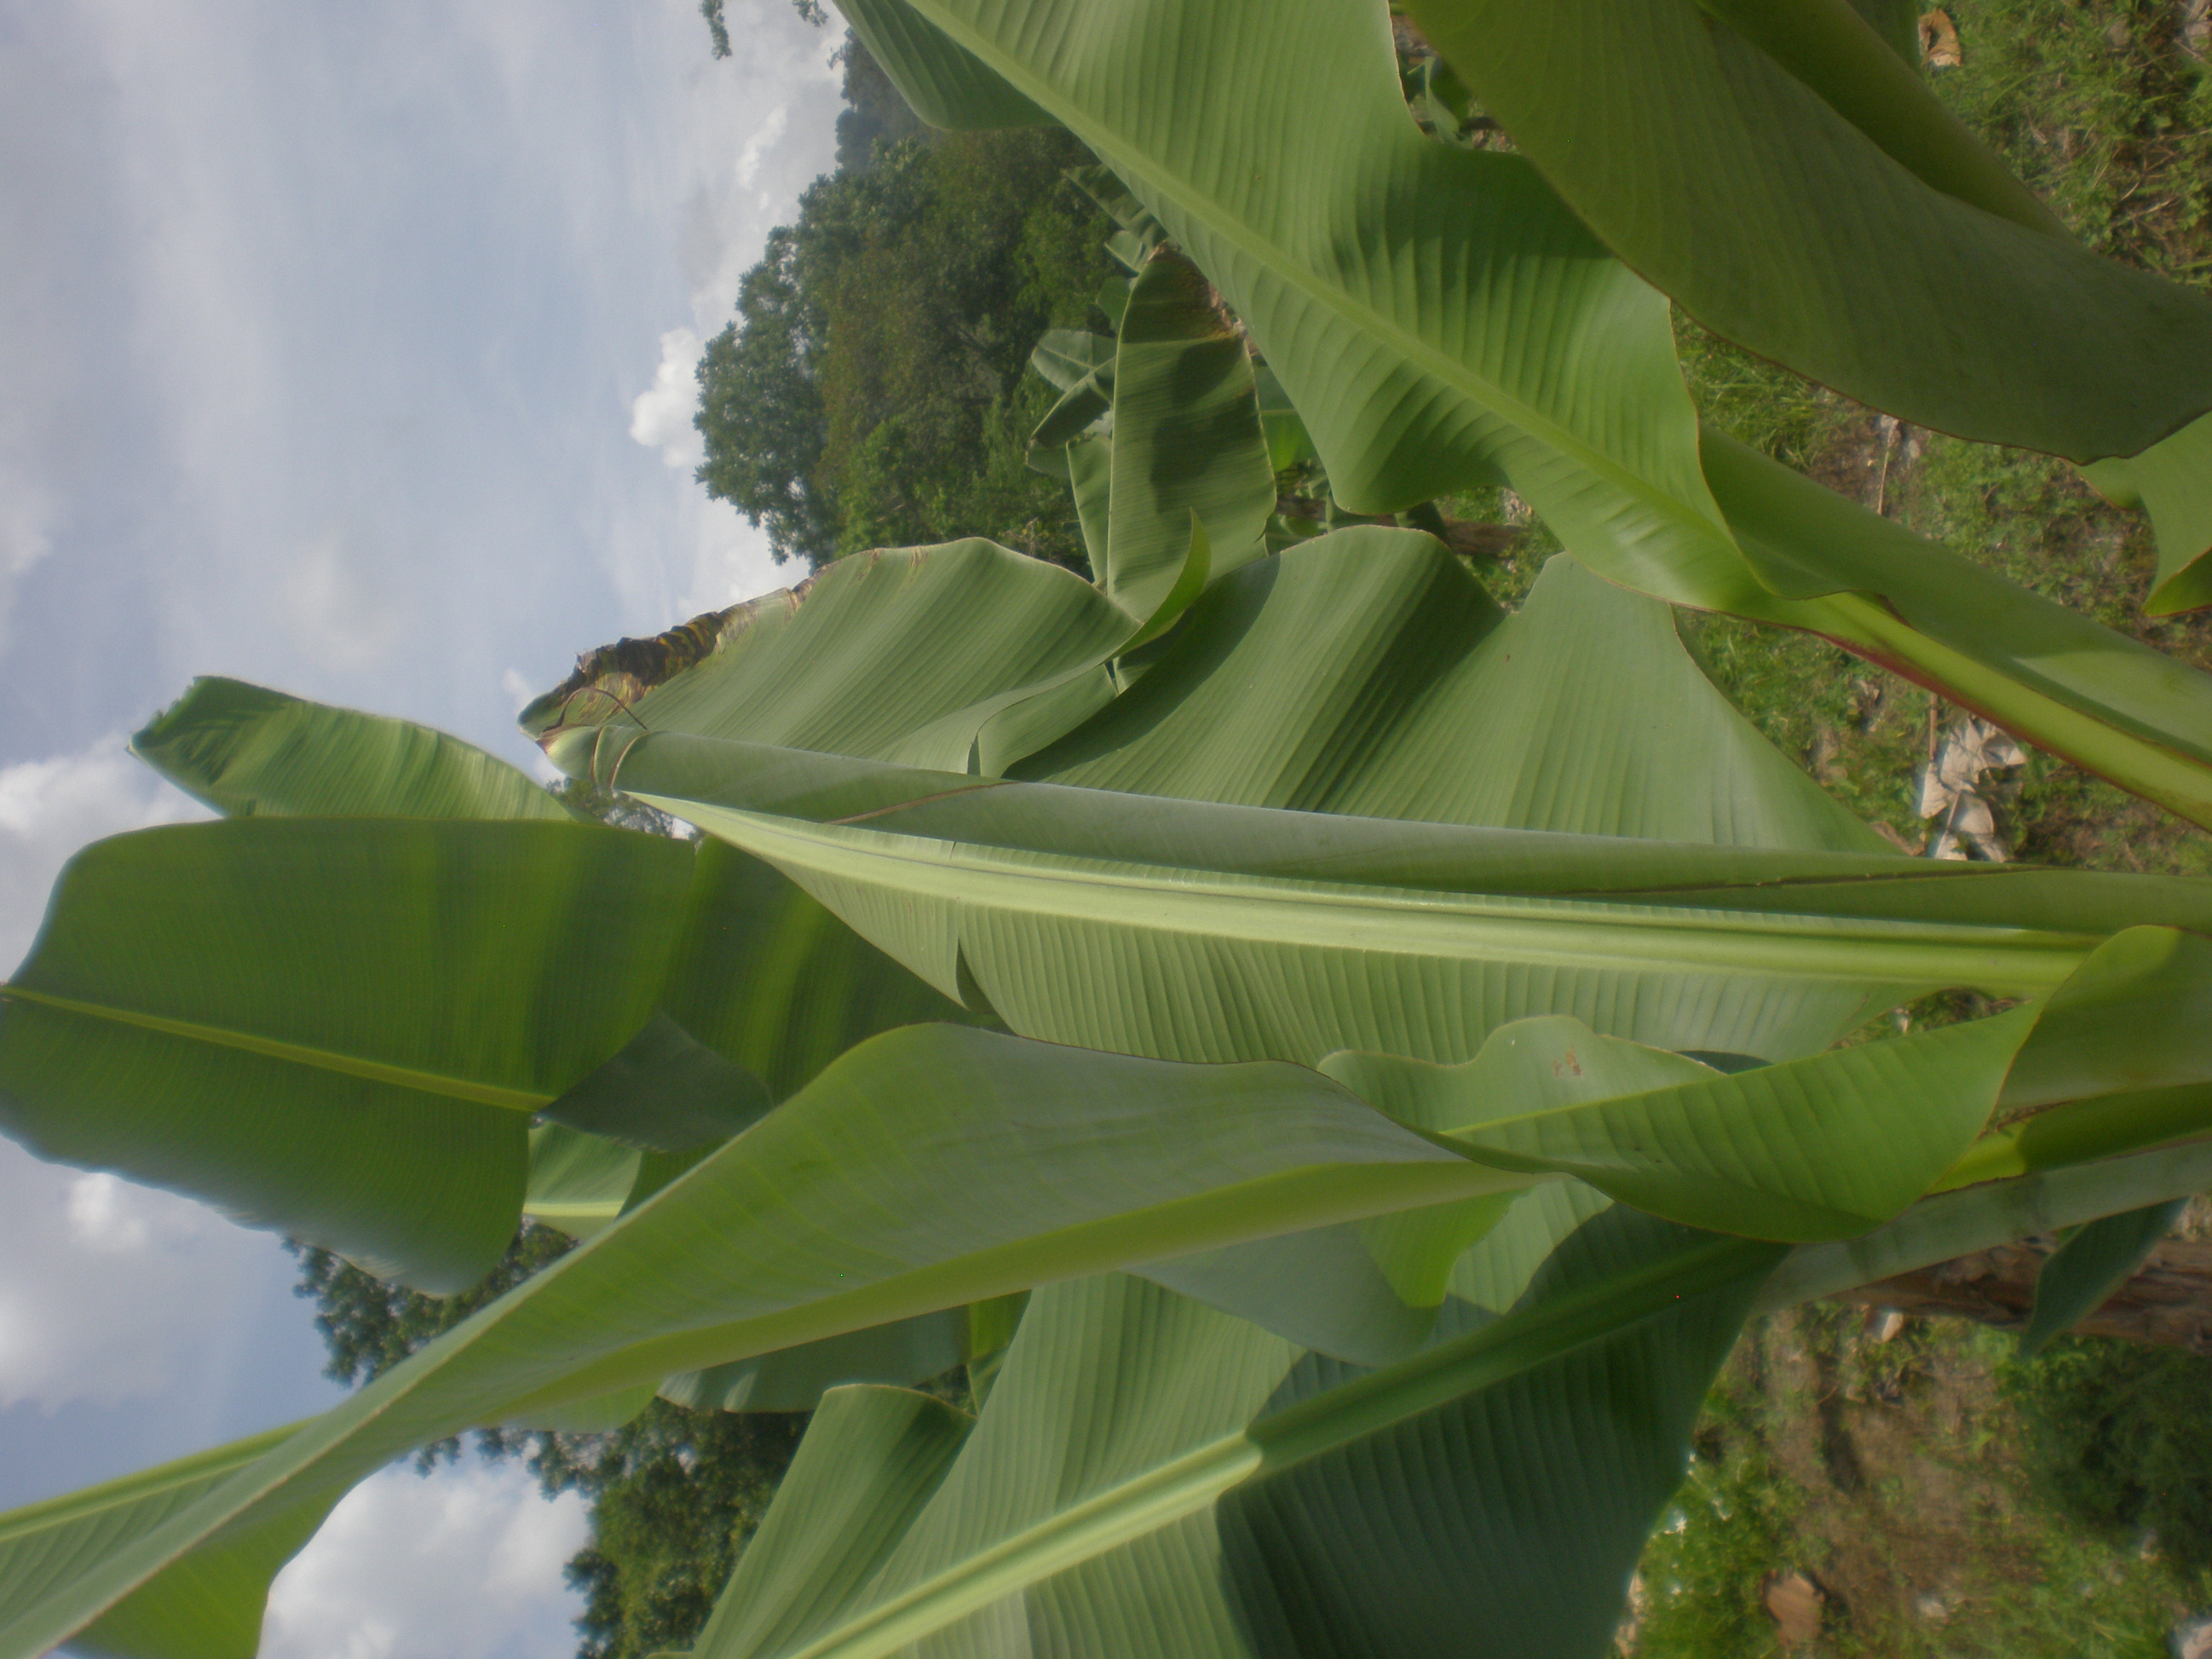candleleafs: (531, 718, 2043, 997)
